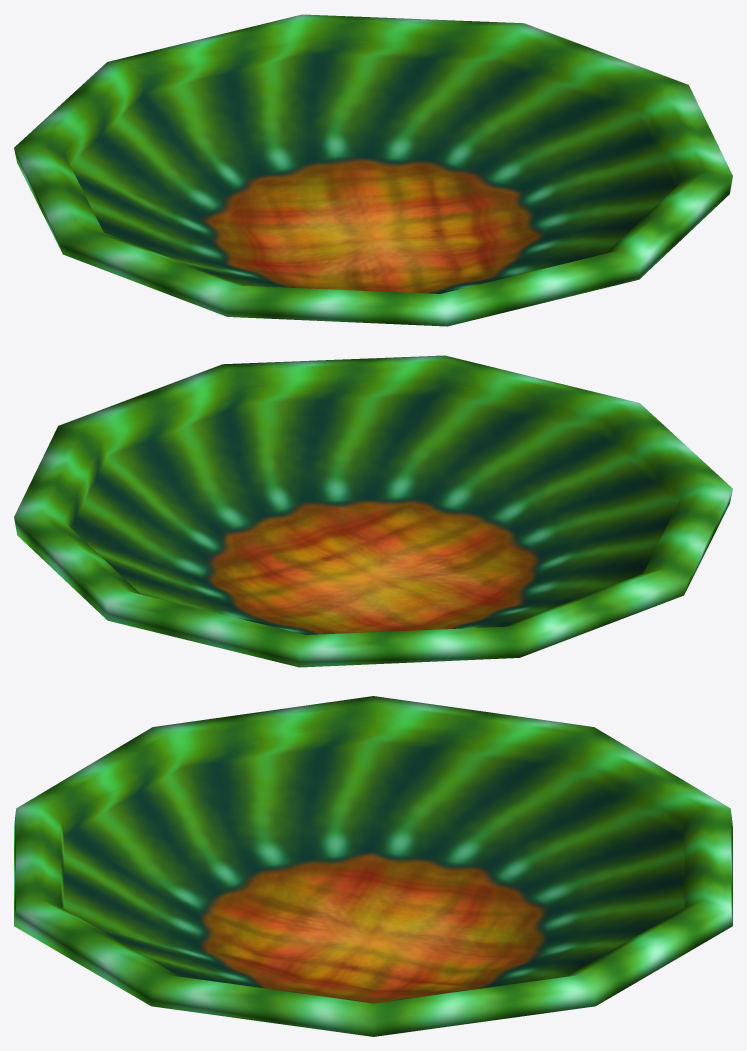
Rendered from Saucer_WHITE_RABBIT.dae.
The picture shows the model from 3 angles, top to bottom: view 1: azimuth 30°, elevation 25°; view 2: azimuth 150°, elevation 25°; view 3: azimuth 270°, elevation 25°; orthographic projection. The views are drawn at different scales.
Parts seen in each view (by area): view 1: mesh0; view 2: mesh0; view 3: mesh0.
Part boxes in pixels (left/top/right/bottom): mesh0: left=14, top=14, right=732, bottom=326; mesh0: left=14, top=355, right=732, bottom=667; mesh0: left=14, top=696, right=732, bottom=1036.
Bounding box in the file's own units: 0.3021 × 0.047 × 0.2819.
